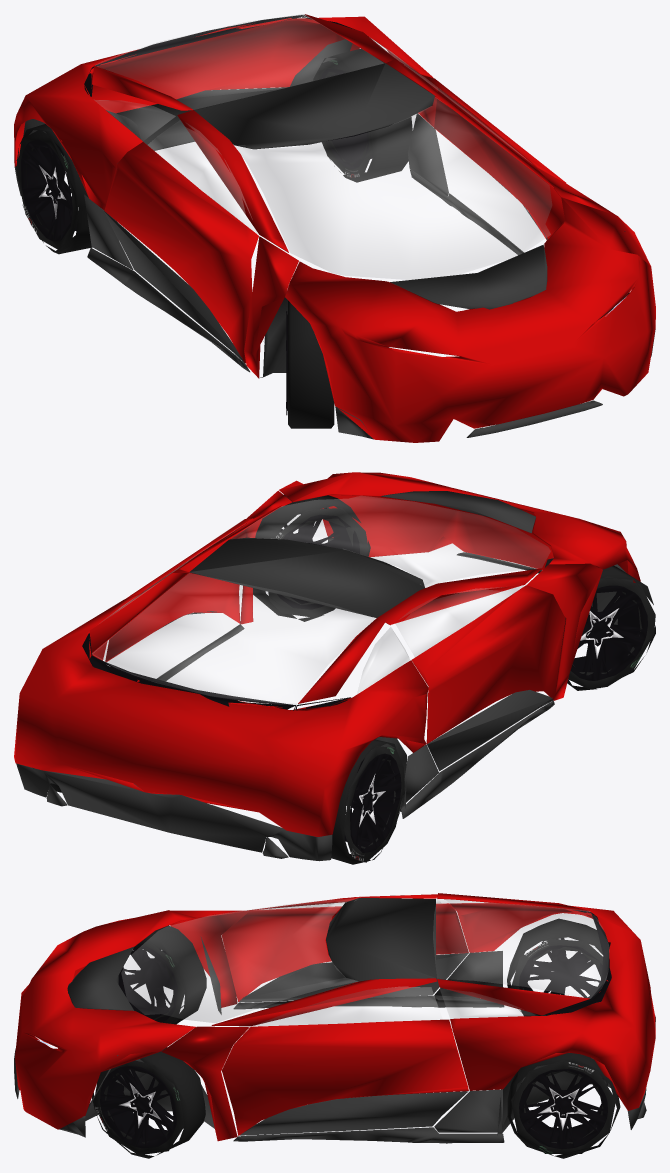
File: concept_far.glb
The picture shows the model from 3 angles, top to bottom: view 1: azimuth 30°, elevation 25°; view 2: azimuth 150°, elevation 25°; view 3: azimuth 270°, elevation 25°; orthographic projection. The views are drawn at different scales.
Visible parts, largest first — view 1: BodyHood, BodyWindshield, BodyRearPanelsColor1, BodyRearwindow, BodyDoorRColor1, BodyRoofPanel, BodyPanelsColor2, BodyPillars, BodyDoorLColor1, BodyHoodTopgrill, WheelFrontR, BodyDoorRWindow (+8 smaller); view 2: BodyRearPanelsColor1, BodyRearwindow, BodyHood, BodyWindshield, BodyPanelsColor2, BodyDoorRColor1, BodyRoofPanel, BodyPillars, BodyDoorLColor1, WheelFrontRRim, WheelFrontL, WheelRearRRim (+9 smaller); view 3: BodyRearPanelsColor1, BodyWindshield, BodyDoorLColor1, BodyHood, BodyRearwindow, BodyPillars, BodyPanelsColor2, BodyRoofPanel, BodyDoorRColor1, BodyDoorLColor2, WheelRearLRim, BodyDoorLWindow (+12 smaller).
Boxes of the visible parts, bbox=[...] form: BodyHood: bbox=[285, 197, 655, 442]; BodyWindshield: bbox=[235, 97, 551, 279]; BodyRearPanelsColor1: bbox=[14, 14, 437, 210]; BodyRearwindow: bbox=[95, 14, 383, 109]; BodyDoorRColor1: bbox=[104, 142, 258, 363]; BodyRoofPanel: bbox=[194, 63, 434, 149]; BodyPanelsColor2: bbox=[14, 87, 655, 439]; BodyPillars: bbox=[177, 59, 616, 378]; BodyDoorLColor1: bbox=[421, 74, 565, 240]; BodyHoodTopgrill: bbox=[390, 244, 547, 309]; WheelFrontR: bbox=[288, 300, 334, 428]; BodyDoorRWindow: bbox=[148, 120, 257, 233]; BodyRearPanelsColor1: bbox=[14, 572, 428, 836]; BodyRearwindow: bbox=[92, 573, 375, 704]; BodyHood: bbox=[279, 472, 640, 582]; BodyWindshield: bbox=[232, 496, 550, 587]; BodyPanelsColor2: bbox=[16, 536, 554, 861]; BodyDoorRColor1: bbox=[411, 585, 565, 743]; BodyRoofPanel: bbox=[189, 537, 424, 617]; BodyPillars: bbox=[179, 490, 602, 700]; BodyDoorLColor1: bbox=[105, 518, 252, 661]; WheelFrontRRim: bbox=[561, 585, 647, 680]; WheelFrontL: bbox=[253, 495, 370, 621]; WheelRearRRim: bbox=[344, 753, 401, 852]; BodyRearPanelsColor1: bbox=[437, 893, 655, 1110]; BodyWindshield: bbox=[121, 898, 357, 1022]; BodyDoorLColor1: bbox=[222, 1019, 468, 1135]; BodyHood: bbox=[15, 910, 195, 1129]; BodyRearwindow: bbox=[433, 899, 608, 998]; BodyPillars: bbox=[161, 894, 437, 1141]; BodyPanelsColor2: bbox=[14, 951, 655, 1143]; BodyRoofPanel: bbox=[326, 898, 435, 981]; BodyDoorRColor1: bbox=[222, 903, 468, 1001]; BodyDoorLColor2: bbox=[239, 1091, 468, 1135]; WheelRearLRim: bbox=[519, 1068, 607, 1149]; BodyDoorLWindow: bbox=[255, 987, 441, 1025].
Bounding box in the file's own units: 2.54 × 1.14 × 4.33.
Materials: 11 (3 with a texture image).
